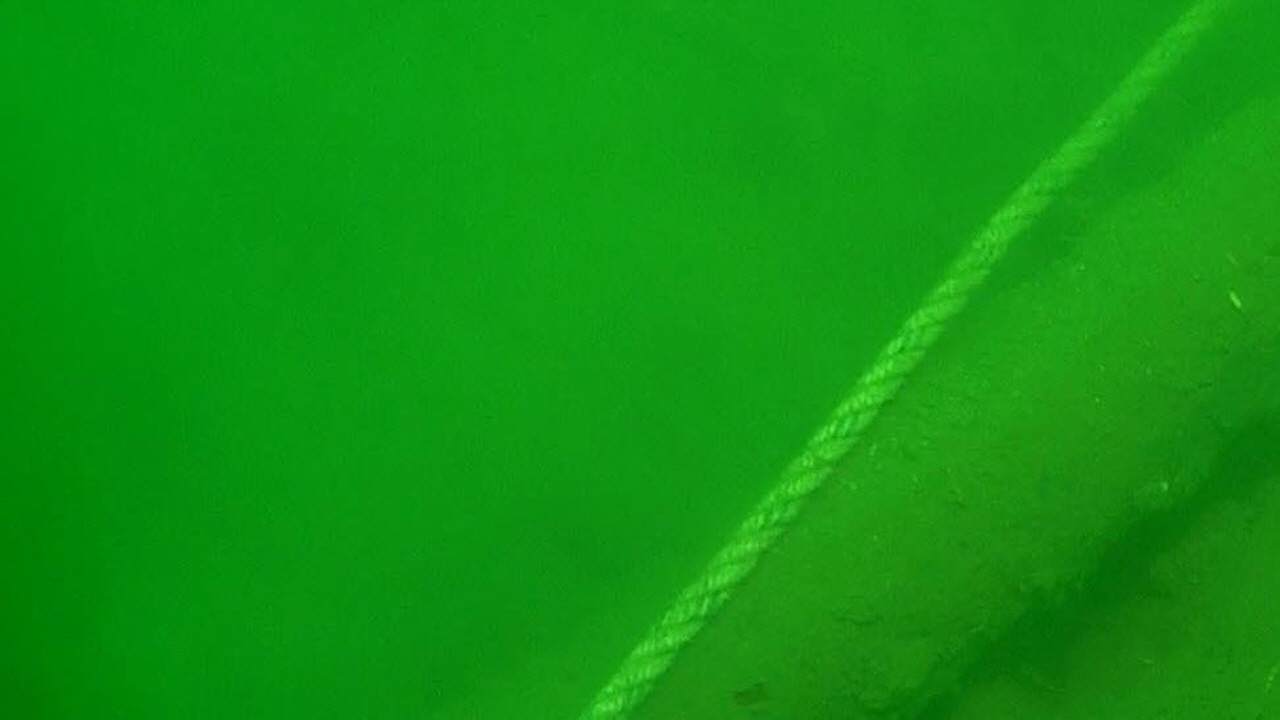rope: (581, 0, 1227, 720)
